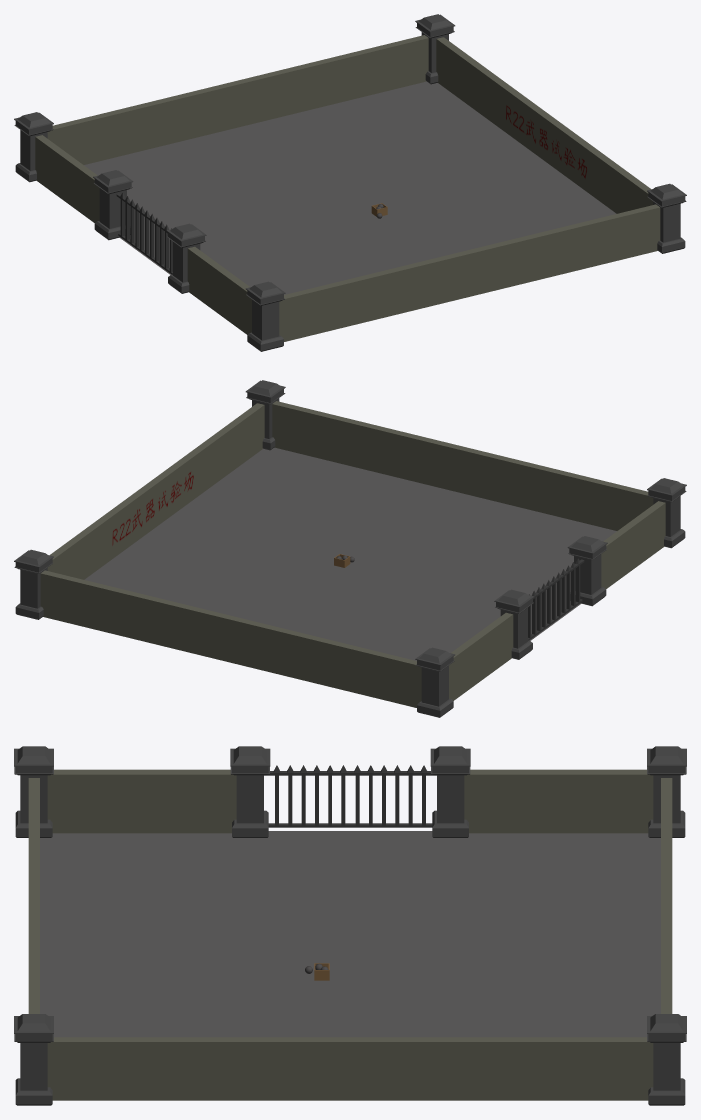
File: MAndS_Scence.FBX
The picture shows the model from 3 angles, top to bottom: view 1: azimuth 30°, elevation 25°; view 2: azimuth 150°, elevation 25°; view 3: azimuth 270°, elevation 25°; orthographic projection. The views are drawn at different scales.
Visible parts, largest first — view 1: Wall002, Ground002; view 2: Wall002, Ground002; view 3: Ground002, Wall002.
Part boxes in pixels (x1,y1,x2,y2): Wall002: (14, 14, 686, 351); Ground002: (84, 81, 616, 294); Wall002: (14, 380, 686, 717); Ground002: (84, 447, 616, 660); Ground002: (40, 831, 660, 1037); Wall002: (14, 746, 686, 1105).
Size of the model in its own units: 7976 by 1043 by 7976.
1 material, 1 textured.
